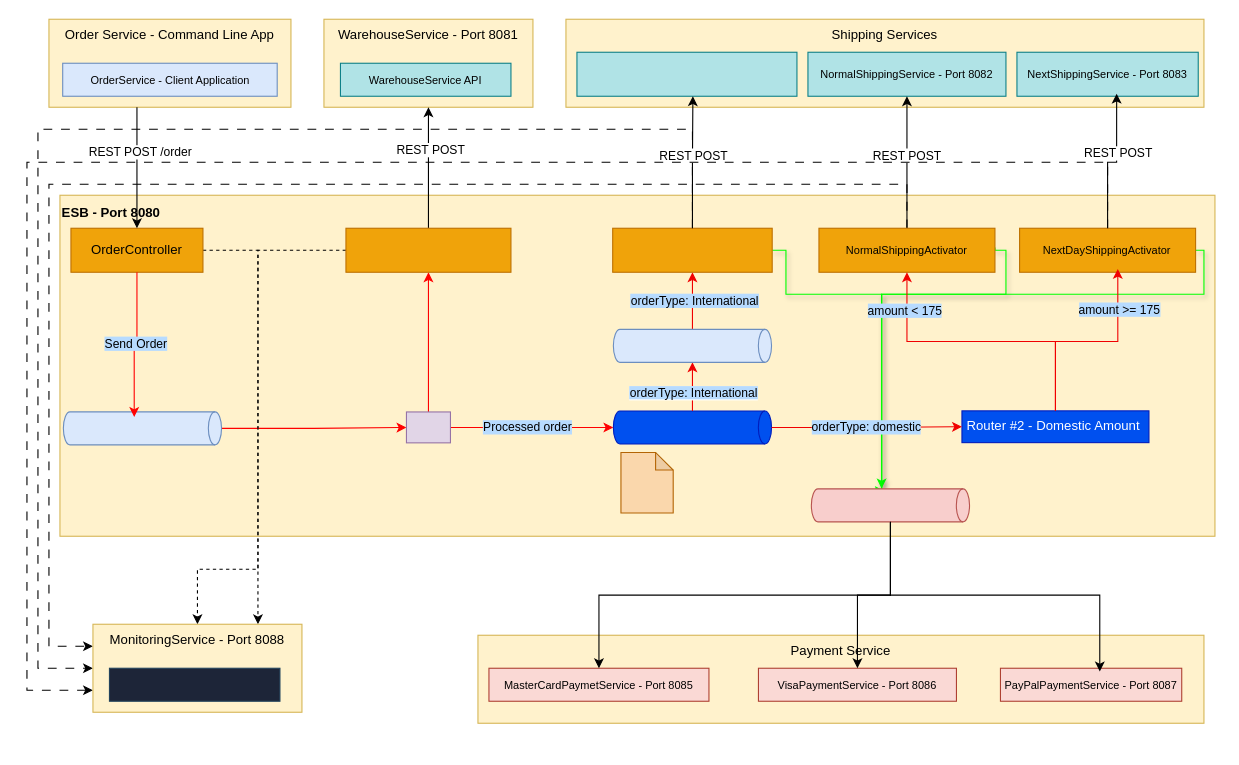
This 1239x765 diagram has some shape labels left out. Each missing label, with the centre of its shape:
"Console Logger / Obverser" goes at point 194,684.
"InternationalShippingActivator" goes at point 692,249.
"internationalShippingChannel" goes at point 692,345.
"InternationalShippingService - Port 8084" goes at point 686,73.
"orderTypeRouterChannel" goes at point 692,427.
"PaymentRouterChannel" goes at point 890,505.
"Router #1" goes at point 646,482.
"WareHouseActivator" goes at point 428,249.
"warehouseChannel" goes at point 142,428.
